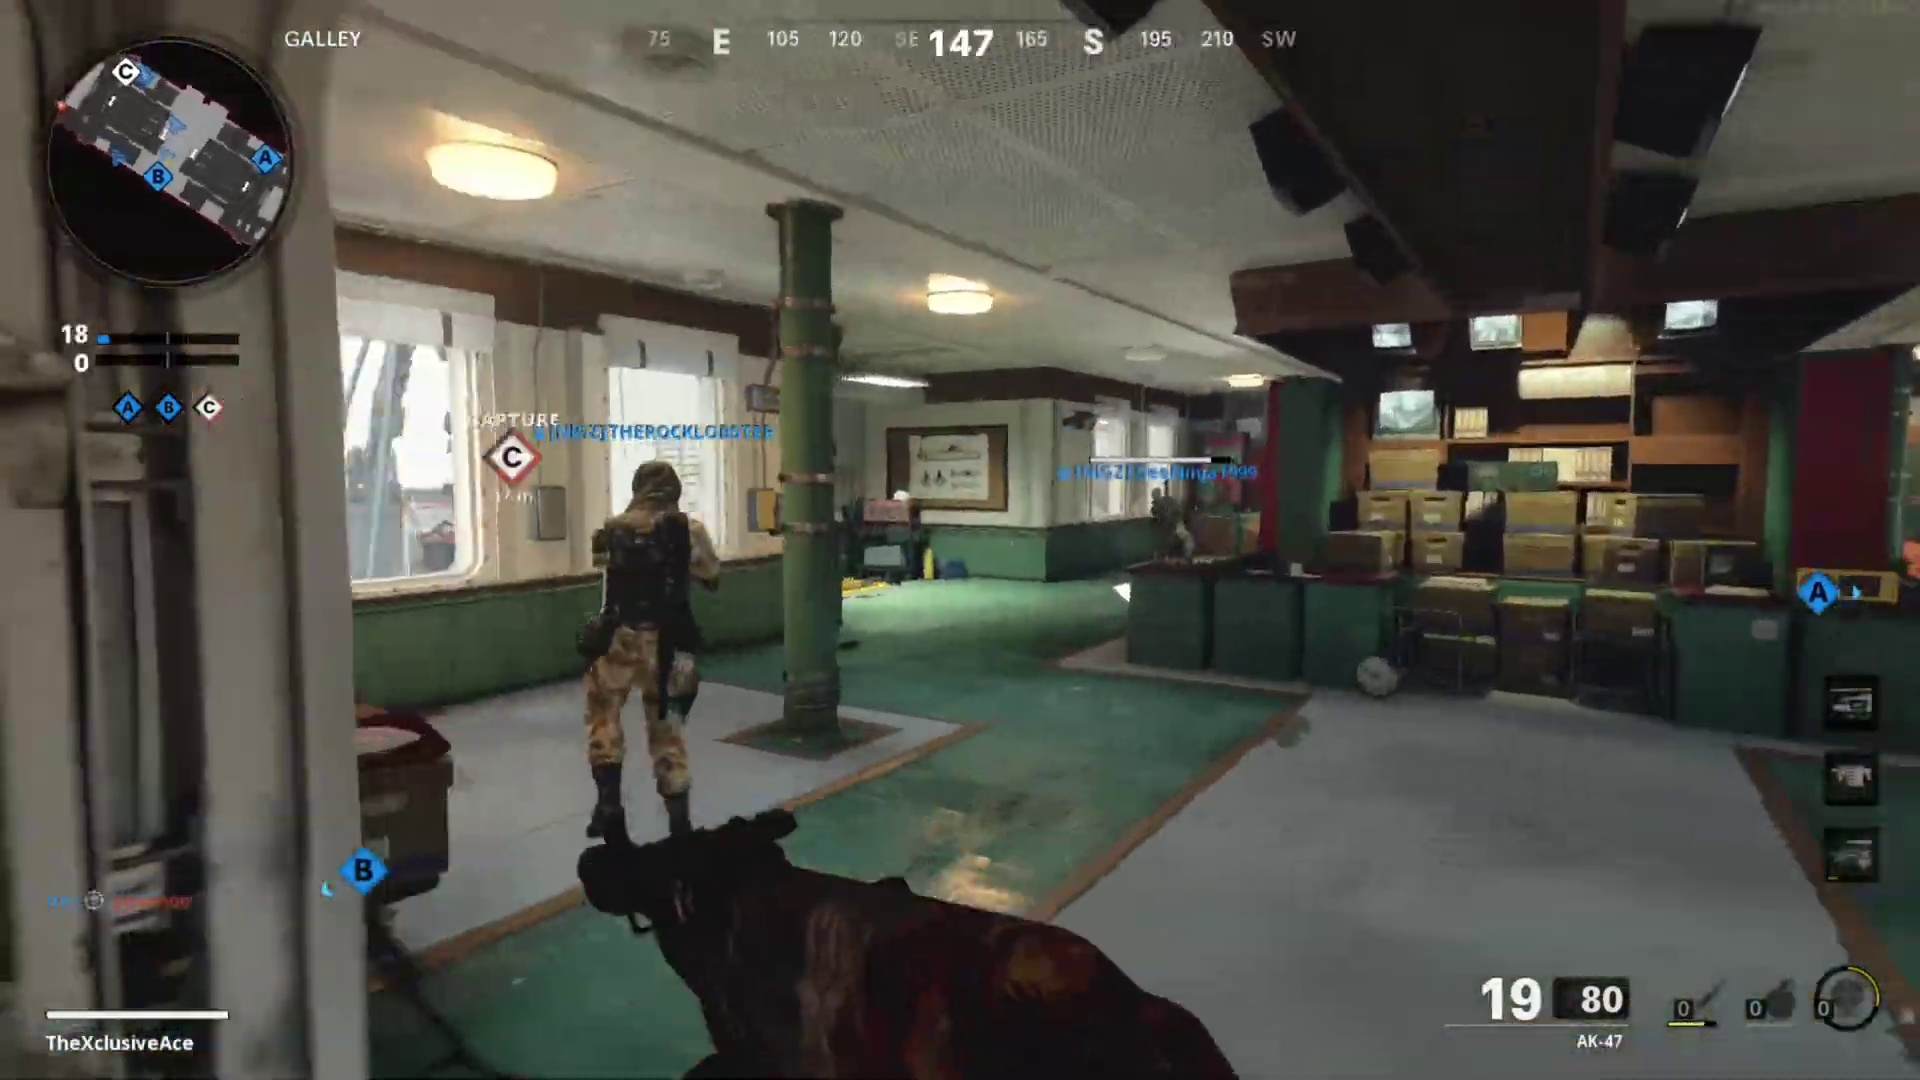head: (625, 460, 688, 522), (1145, 483, 1165, 506)
person: (568, 454, 722, 841), (1148, 481, 1198, 557)
